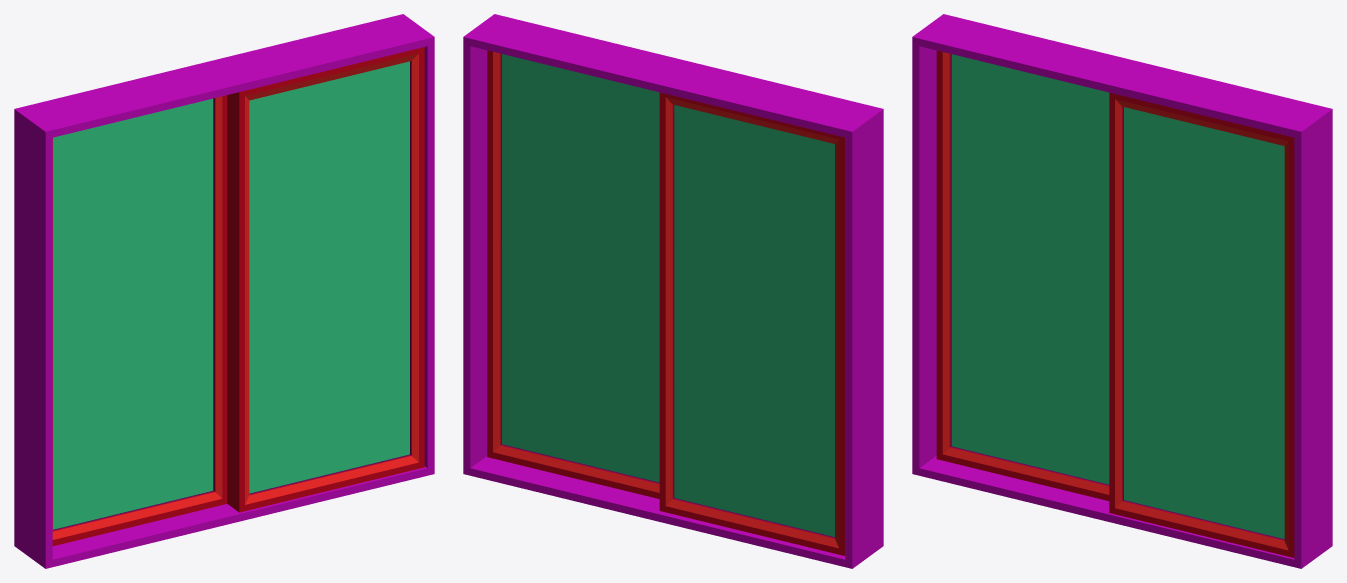
File: Sliding Door.fbx
3 views of the same model, side by side, from view 1: azimuth 30°, elevation 25°; view 2: azimuth 150°, elevation 25°; view 3: azimuth 330°, elevation 25° (orthographic).
Parts seen in each view (by area): view 1: Box001, Box004, Box003; view 2: Box004, Box001, Box003; view 3: Box001, Box004, Box003.
Boxes of the visible parts, <box> form: Box001: <box>227,47,424,512</box>; Box004: <box>52,95,227,546</box>; Box003: <box>14,14,434,568</box>; Box004: <box>659,92,845,555</box>; Box001: <box>487,50,659,498</box>; Box003: <box>463,14,883,568</box>; Box001: <box>1109,92,1294,557</box>; Box004: <box>936,50,1109,500</box>; Box003: <box>912,14,1332,568</box>.
Size of the model in its own units: 71.36 by 76.58 by 9.96.
